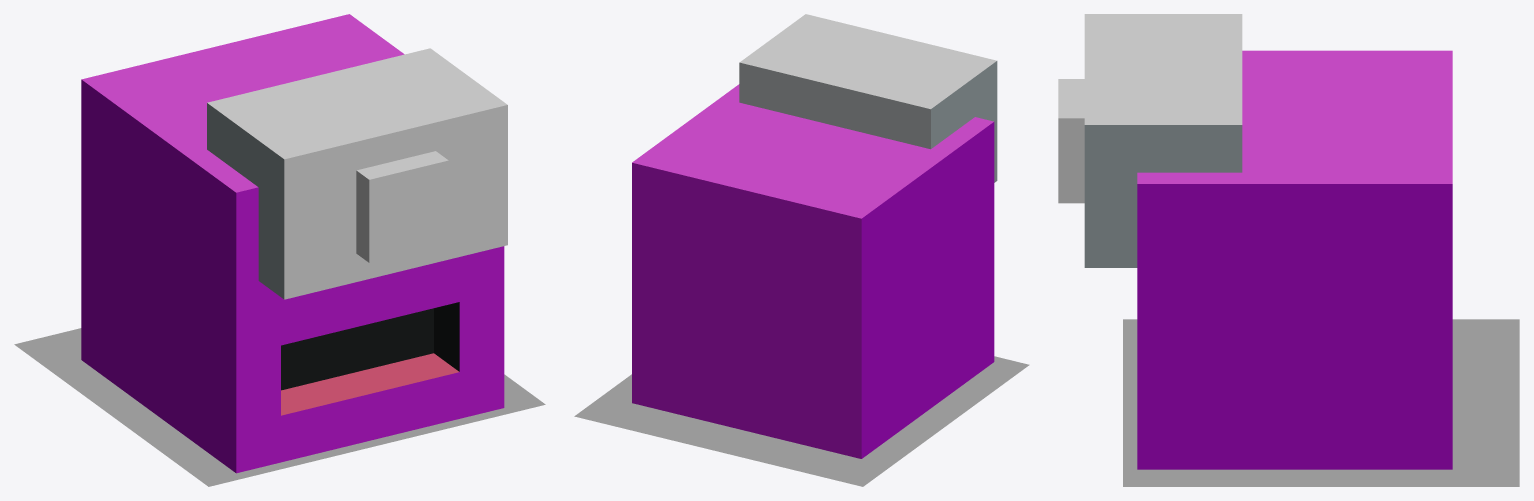
The model's file is EN_TinyBit_Pink.fbx.
3 views of the same model, side by side, from view 1: azimuth 30°, elevation 25°; view 2: azimuth 150°, elevation 25°; view 3: azimuth 270°, elevation 25° (orthographic). The views are drawn at different scales.
Visible parts, largest first — view 1: Body, Eye, Mouth, Shadow, Pupil; view 2: Body, Eye, Shadow; view 3: Body, Eye, Shadow, Pupil.
Part boxes in pixels (box(x1,y1,x2,y2)): Body: box(81, 14, 504, 473); Eye: box(207, 48, 507, 299); Mouth: box(281, 353, 459, 462); Shadow: box(14, 328, 545, 486); Pupil: box(356, 151, 448, 262); Body: box(632, 84, 994, 458); Eye: box(739, 14, 997, 182); Shadow: box(574, 356, 1029, 486); Body: box(1137, 50, 1452, 469); Eye: box(1084, 14, 1242, 267); Shadow: box(1123, 319, 1519, 486); Pupil: box(1058, 79, 1084, 203).
Bounding box in the file's own units: 37.73 × 35 × 43.86.
